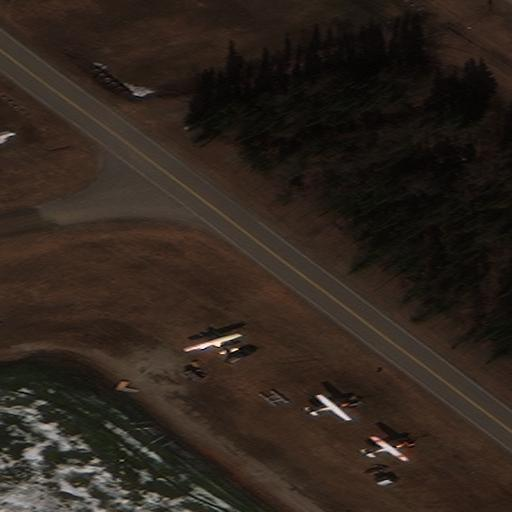Small Civil Transport: (182, 331, 235, 354), (307, 393, 352, 419), (365, 435, 409, 459)
